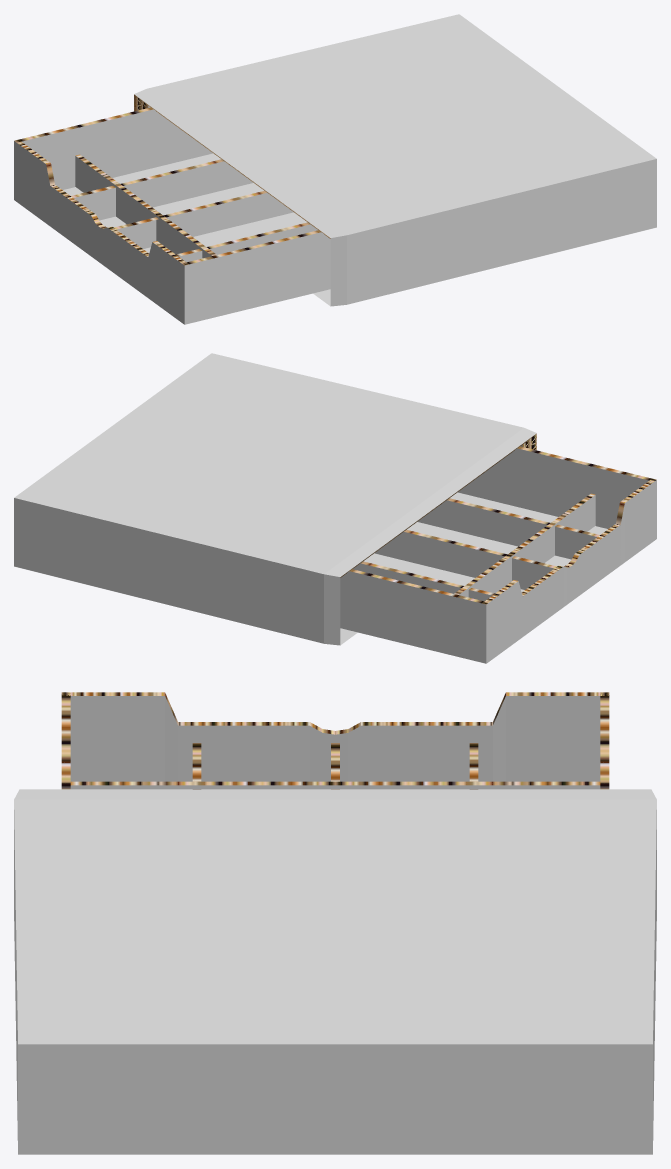
File: Register_Cardboard.fbx
The picture shows the model from 3 angles, top to bottom: view 1: azimuth 30°, elevation 25°; view 2: azimuth 150°, elevation 25°; view 3: azimuth 270°, elevation 25°; orthographic projection. The views are drawn at different scales.
Visible parts, largest first — view 1: Cube.001, Base.001; view 2: Cube.001, Base.001; view 3: Cube.001, Base.001.
Part boxes in pixels (x1,y1,x2,y2): Cube.001: (134, 14, 656, 306); Base.001: (14, 107, 330, 324); Cube.001: (14, 353, 536, 645); Base.001: (340, 446, 656, 663); Cube.001: (14, 789, 656, 1154); Base.001: (61, 692, 609, 789).
Size of what is drawn, in the model's own units: 68.95 by 9.99 by 52.11.
